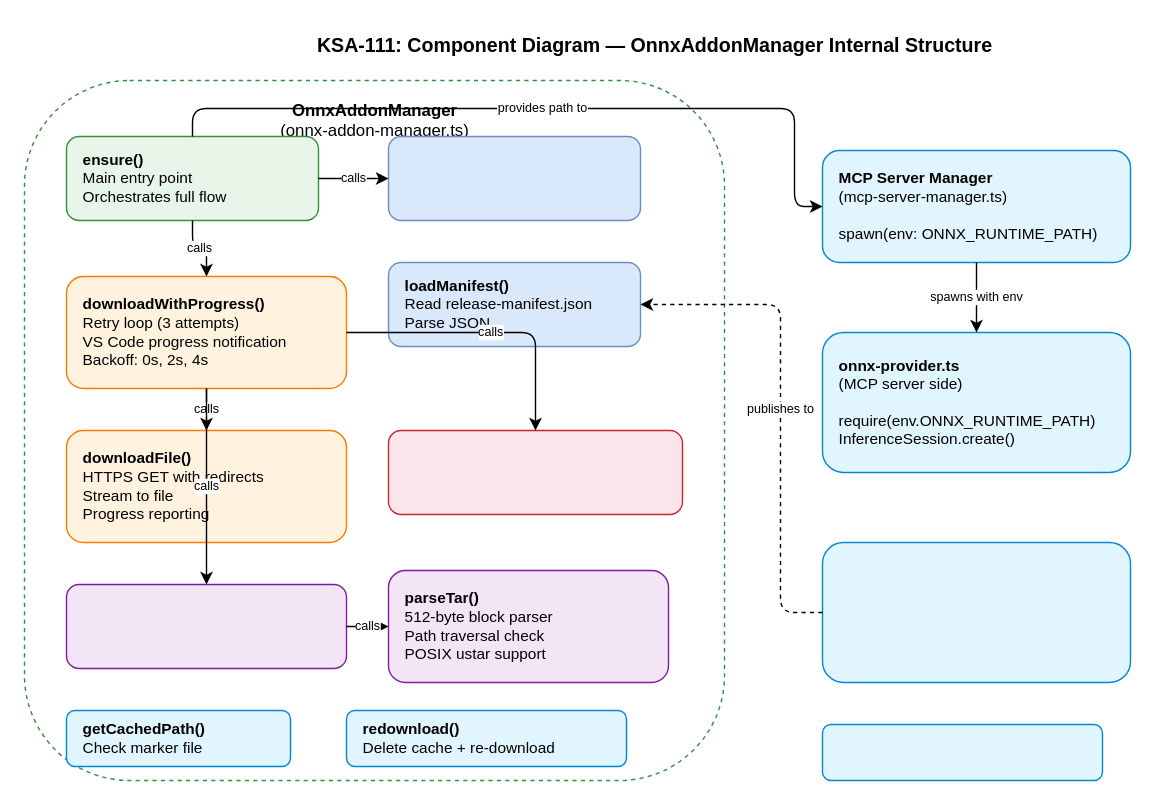
This 1155x805 diagram has some shape labels left out. Here are the shapes that lost their labels. From the top down, the centre of each, then its label:
(513,177): getPlatformInfo() Detect OS/arch Build cache key
(534,471): computeSha256() Stream hash computation crypto.createHash('sha256')
(205,625): extractTarGz() Gunzip + tar parse zlib.createGunzip()
(975,611): build-onnxruntime.yml (GitHub Actions) Build 4 platforms Upload to Release
(961,751): update-onnx-manifest.js Helper script
